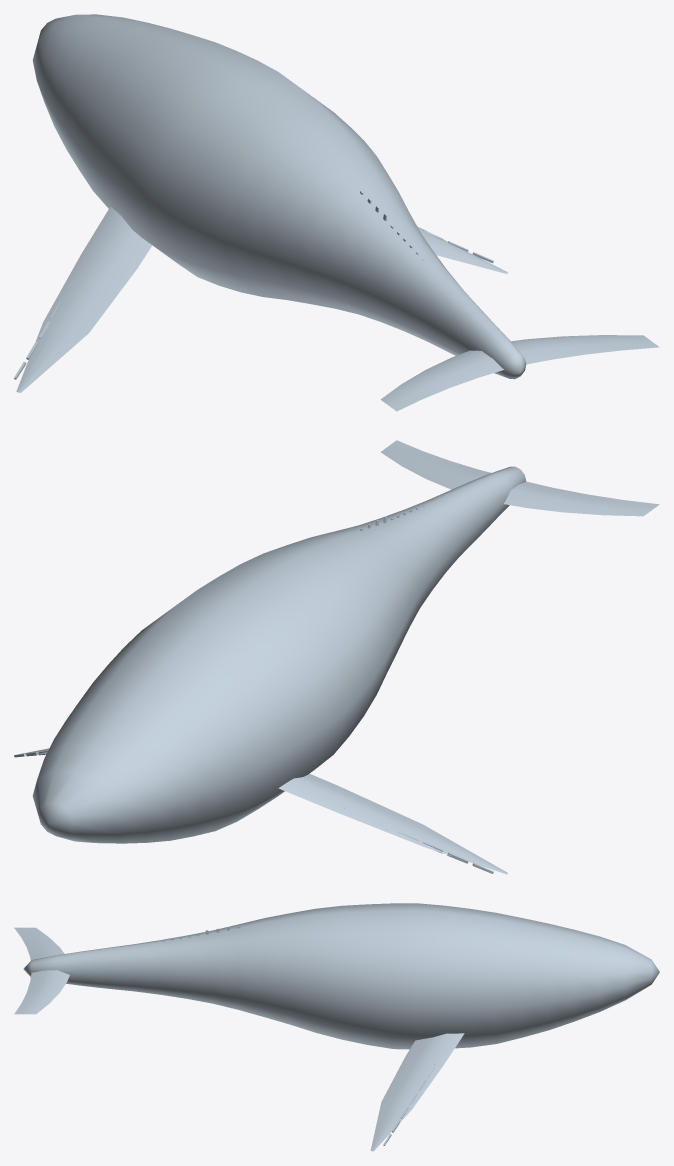
File: ghost_whale_game.glb
3 renders of one model, top to bottom at view 1: azimuth 30°, elevation 25°; view 2: azimuth 150°, elevation 25°; view 3: azimuth 270°, elevation 25°, orthographic. The views are drawn at different scales.
Parts seen in each view (by area): view 1: ghost_whale_game; view 2: ghost_whale_game; view 3: ghost_whale_game.
Part boxes in pixels (x1=…): ghost_whale_game: x1=14, y1=14, x2=659, y2=411; ghost_whale_game: x1=14, y1=440, x2=659, y2=874; ghost_whale_game: x1=14, y1=903, x2=659, y2=1151.
Bounding box in the file's own units: 8.65 × 3.98 × 14.59.
